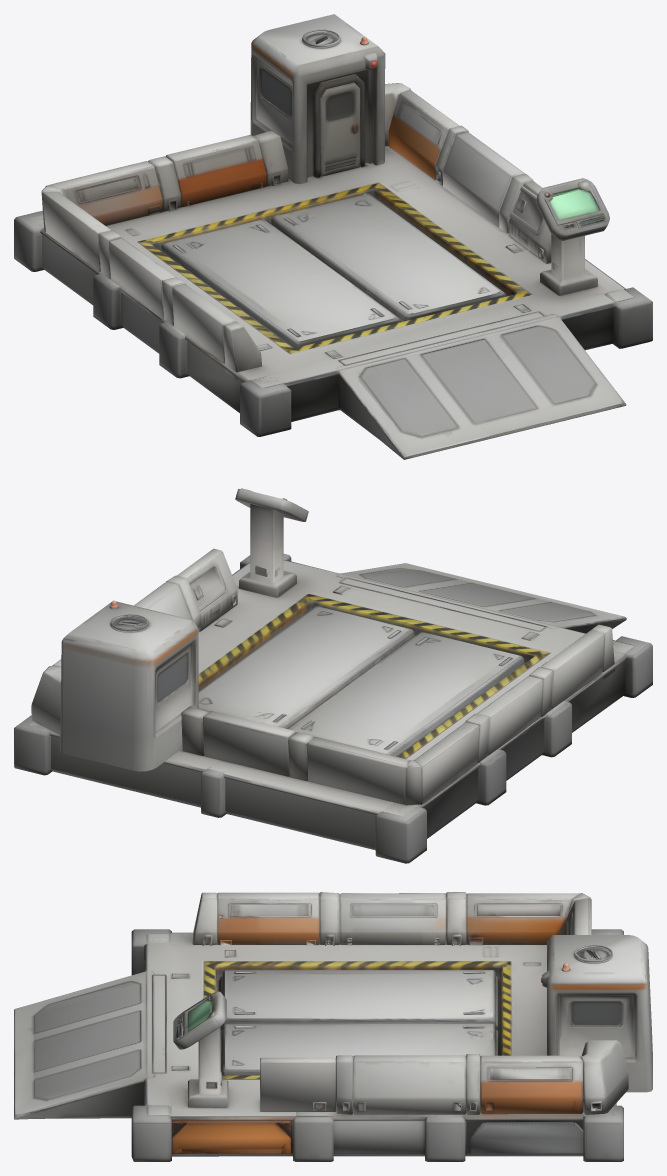
File: basis_frachtaufzug_01.glb
3 views of the same model, one above another, from view 1: azimuth 30°, elevation 25°; view 2: azimuth 150°, elevation 25°; view 3: azimuth 270°, elevation 25° (orthographic).
Visible parts, largest first — view 1: frachtaufzug_01; view 2: frachtaufzug_01; view 3: frachtaufzug_01.
Boxes of the visible parts, bbox=[...] form: frachtaufzug_01: bbox=[14, 14, 652, 459]; frachtaufzug_01: bbox=[14, 488, 652, 863]; frachtaufzug_01: bbox=[14, 892, 652, 1161].
Size of the model in its own units: 5.71 by 2.26 by 8.
1 material, 1 textured.
